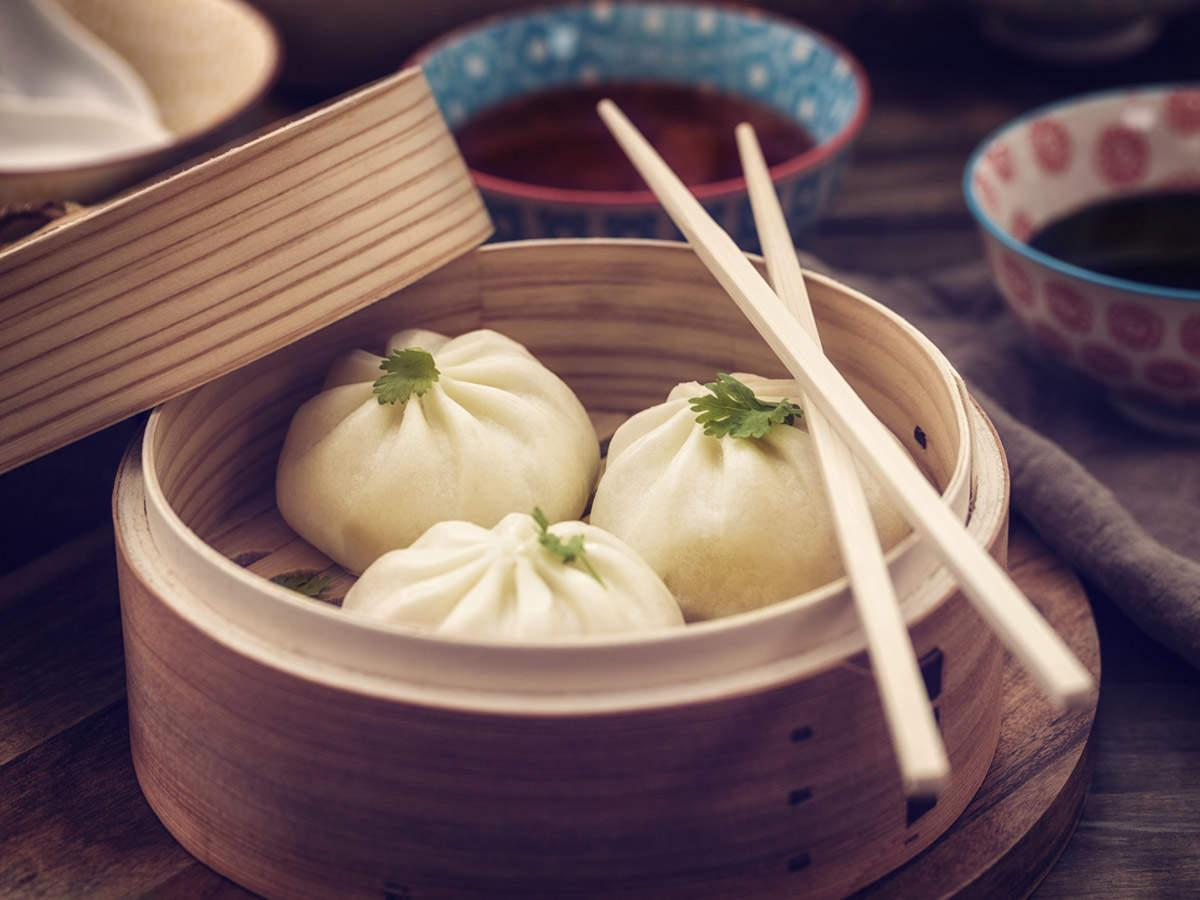momos: (277, 328, 600, 573), (277, 328, 600, 572), (591, 373, 844, 621), (288, 330, 600, 531), (809, 274, 1008, 562), (342, 509, 684, 639)
